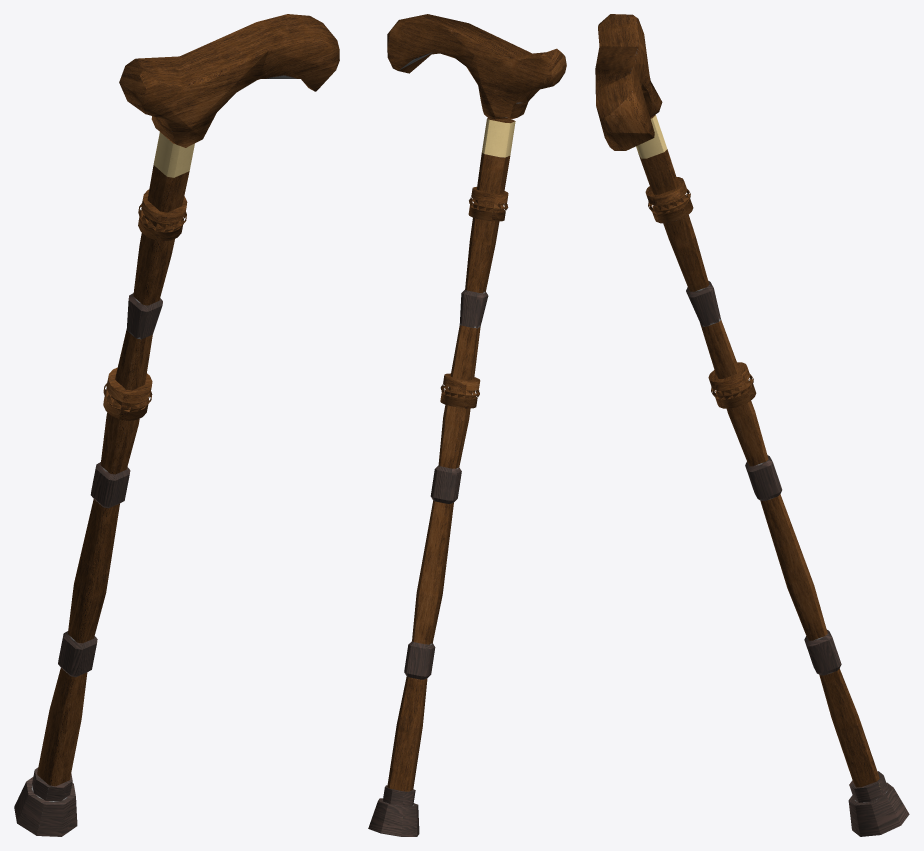
The model's file is walking stick.fbx.
The picture shows the model from 3 angles, left to right: view 1: azimuth 30°, elevation 25°; view 2: azimuth 150°, elevation 25°; view 3: azimuth 270°, elevation 25°; orthographic projection. The views are drawn at different scales.
Parts seen in each view (by area): view 1: walking_stick; view 2: walking_stick; view 3: walking_stick.
Boxes of the visible parts, left/top/right/bottom form: walking_stick: left=14, top=14, right=339, bottom=836; walking_stick: left=368, top=14, right=566, bottom=836; walking_stick: left=595, top=14, right=909, bottom=836.
Size of the model in its own units: 20.82 by 86.88 by 30.84.
Materials: 1 (1 with a texture image).
